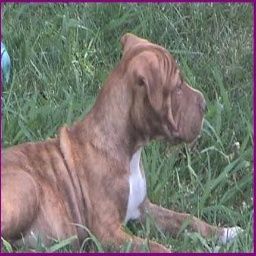dog: (2, 32, 244, 256)
